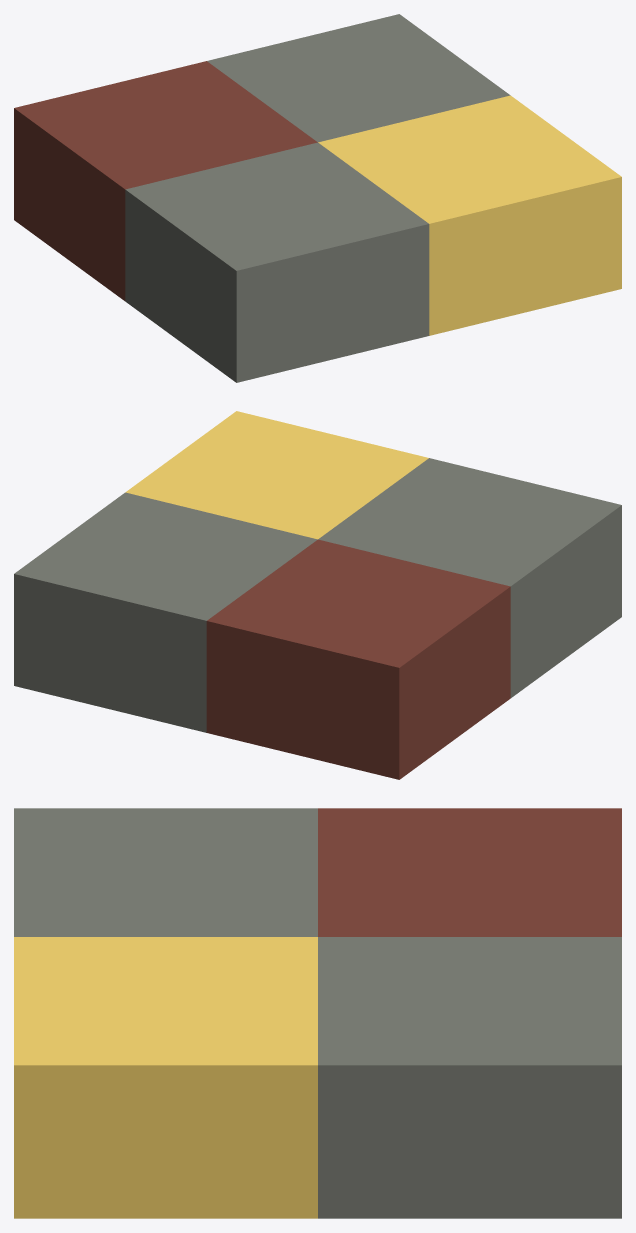
Rendered from garbage_down.fbx.
3 renders of one model, top to bottom at view 1: azimuth 30°, elevation 25°; view 2: azimuth 150°, elevation 25°; view 3: azimuth 270°, elevation 25°, orthographic. The views are drawn at different scales.
Parts seen in each view (by area): view 1: garbage_down; view 2: garbage_down; view 3: garbage_down.
Boxes of the visible parts, x1,y1,x2,y2 form: garbage_down: [14, 14, 621, 382]; garbage_down: [14, 411, 621, 779]; garbage_down: [14, 808, 621, 1218].
Size of the model in its own units: 2.06 by 0.5716 by 2.06.
